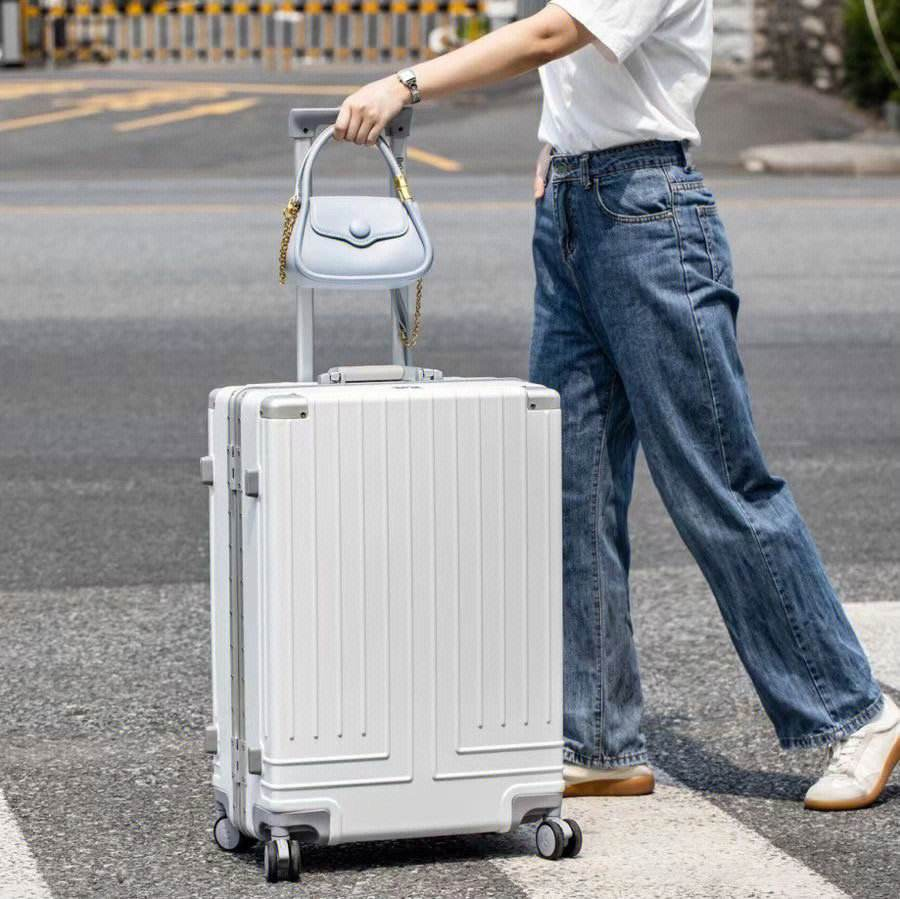box: (211, 378, 562, 840)
handle: (313, 364, 445, 383)
wheel: (534, 817, 582, 862), (263, 836, 303, 882), (214, 814, 245, 851)
